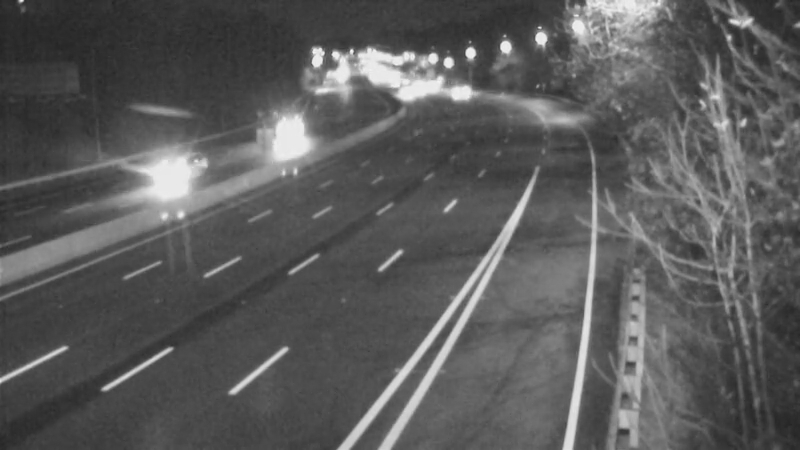vehicle: (117, 137, 197, 217), (380, 67, 430, 117), (428, 71, 478, 121), (256, 105, 306, 155)
